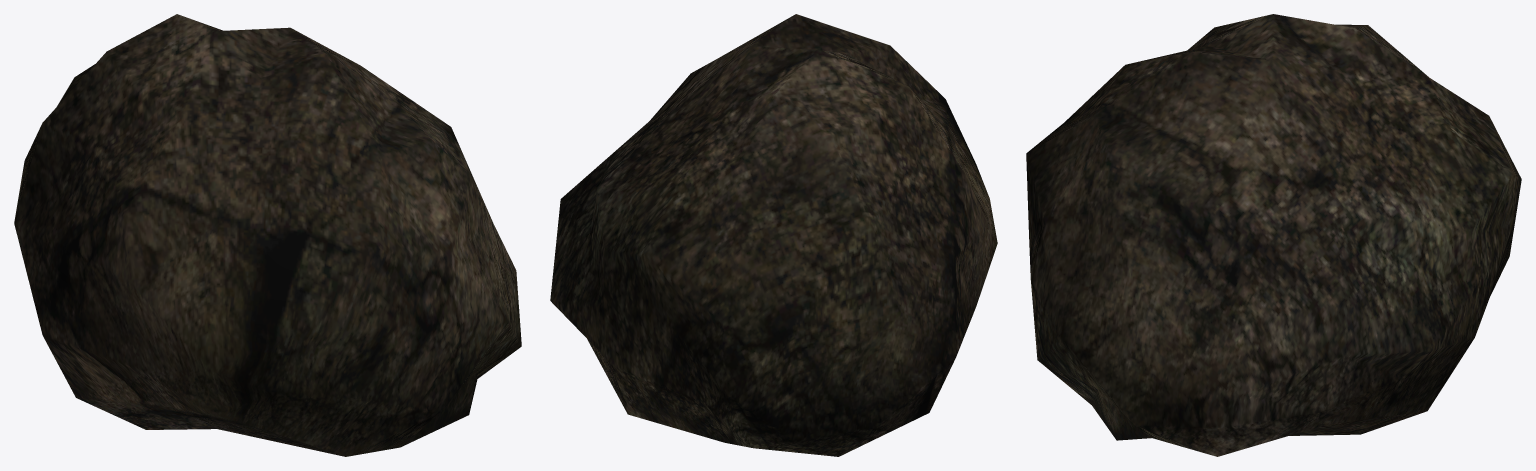
File: stone_large01_brown.dae
3 renders of one model, left to right at view 1: azimuth 30°, elevation 25°; view 2: azimuth 150°, elevation 25°; view 3: azimuth 270°, elevation 25°, orthographic. The views are drawn at different scales.
Visible parts, largest first — view 1: stone_large01_mesh; view 2: stone_large01_mesh; view 3: stone_large01_mesh.
Boxes of the visible parts, x1,y1,x2,y2 form: stone_large01_mesh: (14, 14, 521, 456); stone_large01_mesh: (550, 14, 997, 456); stone_large01_mesh: (1026, 14, 1521, 456).
Size of the model in its own units: 1.34 by 1.19 by 1.45.
